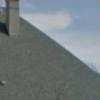chimneys: (4, 0, 20, 37)
